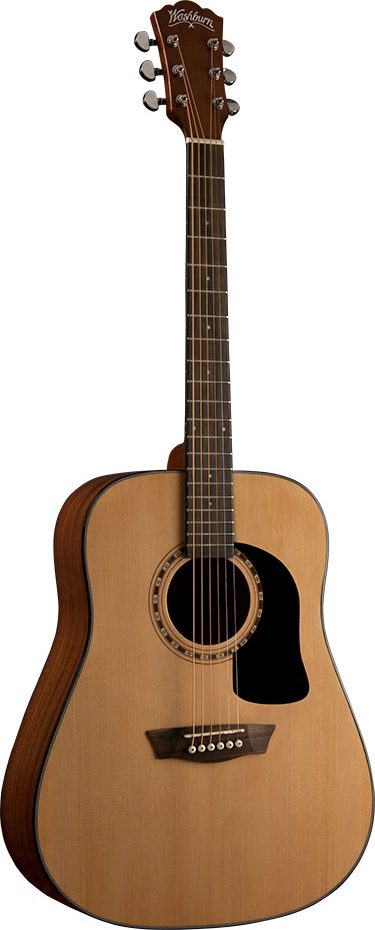guitar: (0, 444, 375, 930)
